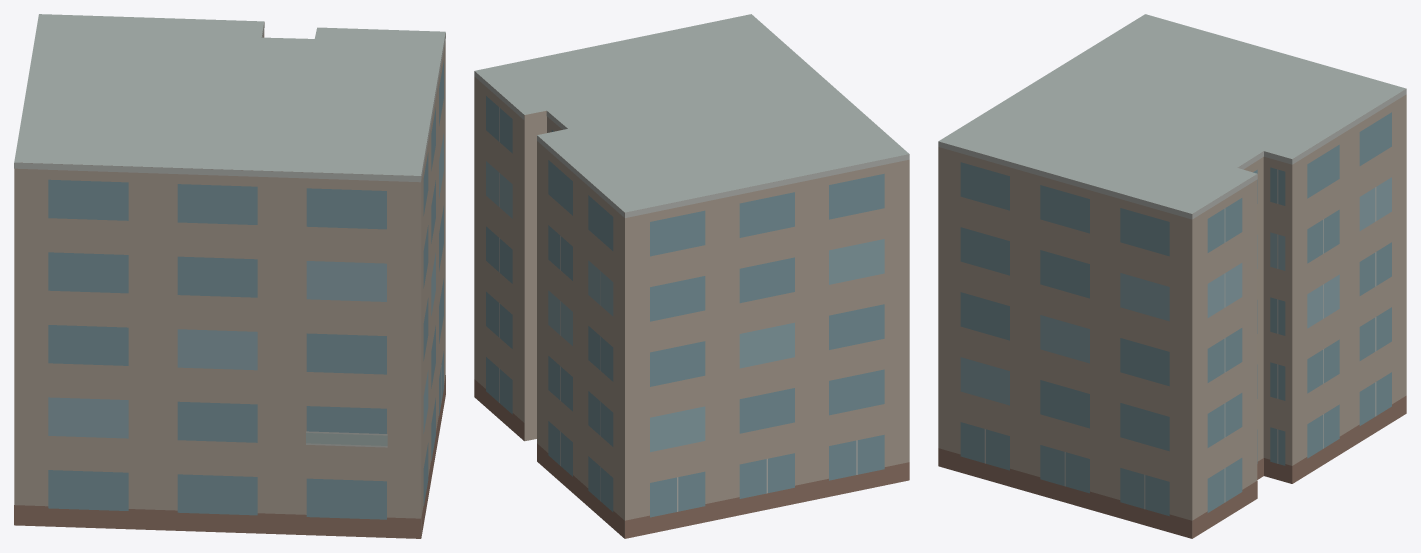
Rendered from survey-upis-32890865.glb.
3 renders of one model, left to right at view 1: azimuth 30°, elevation 25°; view 2: azimuth 150°, elevation 25°; view 3: azimuth 270°, elevation 25°, orthographic. The views are drawn at different scales.
Visible parts, largest first — view 1: survey-upis-32890865.tmp; view 2: survey-upis-32890865.tmp; view 3: survey-upis-32890865.tmp.
Part boxes in pixels (bbox=[...]): survey-upis-32890865.tmp: bbox=[14, 14, 445, 538]; survey-upis-32890865.tmp: bbox=[474, 14, 909, 538]; survey-upis-32890865.tmp: bbox=[938, 14, 1406, 538].
Bounding box in the file's own units: 18.89 × 14.3 × 18.7.
